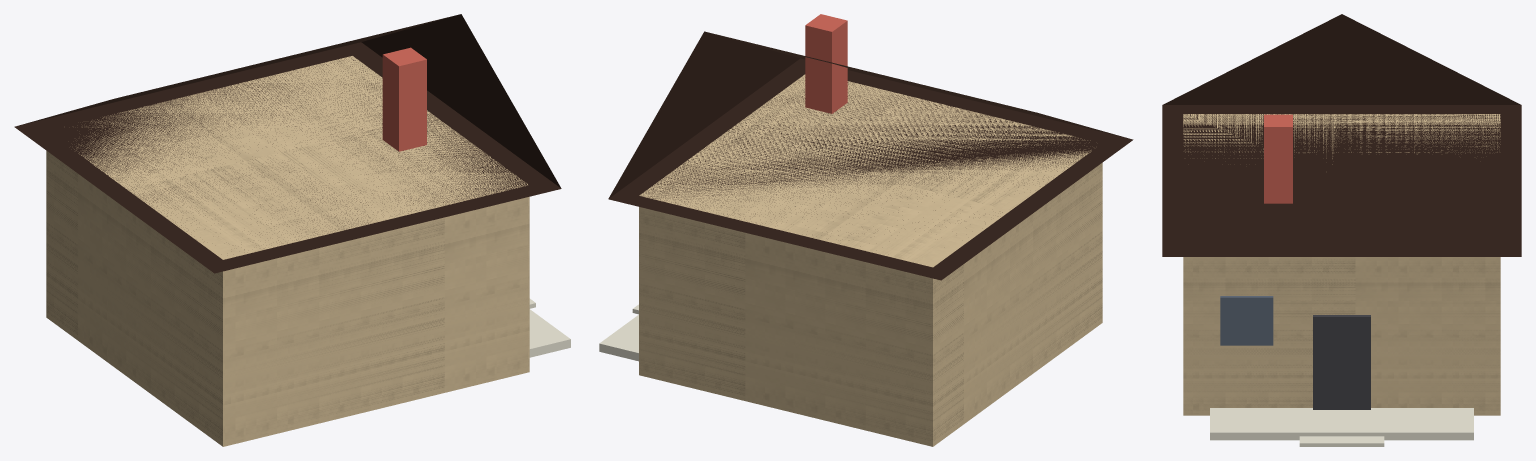
Rendered from house-b.glb.
3 renders of one model, left to right at view 1: azimuth 30°, elevation 25°; view 2: azimuth 150°, elevation 25°; view 3: azimuth 270°, elevation 25°, orthographic. The views are drawn at different scales.
Visible parts, largest first — view 1: house-b; view 2: house-b; view 3: house-b.
Boxes of the visible parts, x1,y1,x2,y2 form: house-b: (14,14,570,446); house-b: (599,14,1133,446); house-b: (1162,14,1521,446).
Bounding box in the file's own units: 7.8 × 5.5 × 6.8.
Materials: 6 (2 with a texture image).
